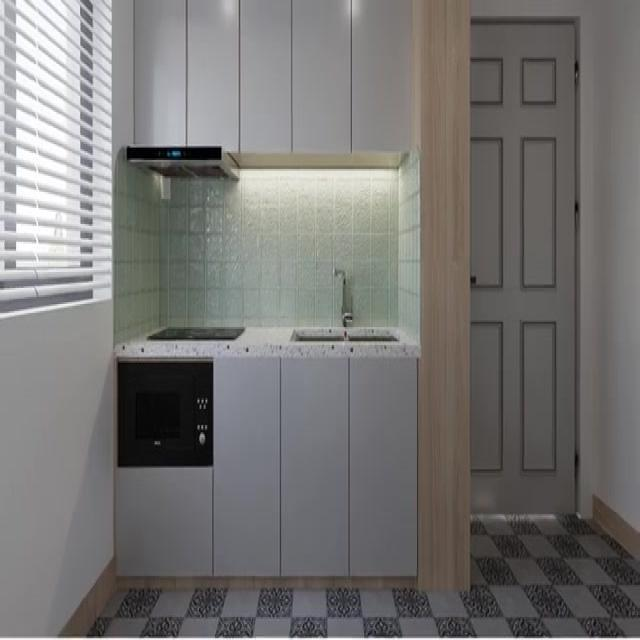door: (469, 16, 577, 516)
